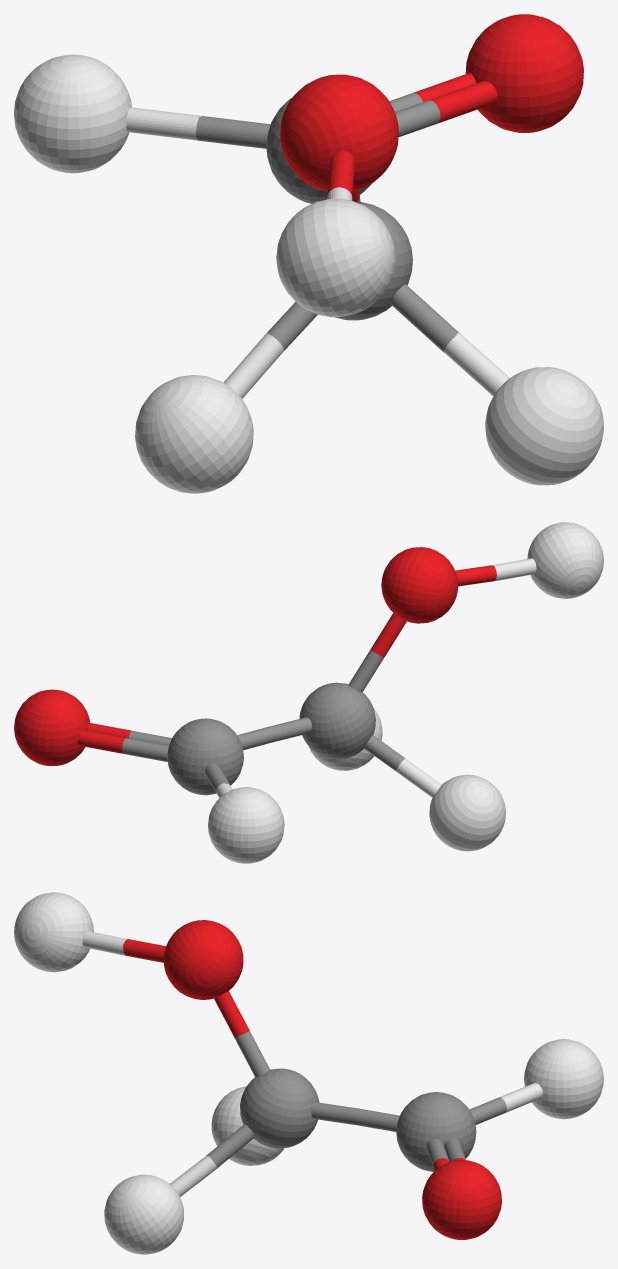
File: glycoaldehyde.fbx
The picture shows the model from 3 angles, top to bottom: view 1: azimuth 30°, elevation 25°; view 2: azimuth 150°, elevation 25°; view 3: azimuth 270°, elevation 25°; orthographic projection. The views are drawn at different scales.
Parts seen in each view (by area): view 1: Sphere.002, Sphere.004, Sphere.013, Sphere.014, Sphere.008, Sphere.000, Sphere.001, Sphere.005, Cylinder.022, Cylinder.025, Cylinder.027, Cylinder.024 (+6 smaller); view 2: Sphere.000, Sphere.014, Sphere.013, Sphere.004, Sphere.008, Sphere.001, Sphere.005, Sphere.002, Cylinder.010, Cylinder.031, Cylinder.016, Cylinder.001 (+6 smaller); view 3: Sphere.002, Sphere.008, Sphere.000, Sphere.004, Sphere.001, Sphere.014, Sphere.005, Sphere.013, Cylinder.022, Cylinder.024, Cylinder.013, Cylinder.000 (+6 smaller).
Part boxes in pixels (x1,y1,x2,y2): Sphere.002: (485,367,603,485); Sphere.004: (276,198,395,317); Sphere.013: (135,375,253,493); Sphere.014: (14,54,131,173); Sphere.008: (465,14,583,132); Sphere.000: (280,74,398,191); Sphere.001: (334,202,412,320); Sphere.005: (266,97,371,203); Cylinder.022: (391,284,458,352); Cylinder.025: (196,116,270,148); Cylinder.027: (126,107,201,140); Cylinder.024: (443,332,509,396); Sphere.000: (381,547,458,623); Sphere.014: (208,787,284,863); Sphere.013: (429,774,505,851); Sphere.004: (527,522,603,598); Sphere.008: (14,689,90,766); Sphere.001: (299,682,375,759); Sphere.005: (167,718,243,795); Sphere.002: (308,709,382,770); Cylinder.010: (122,738,168,761); Cylinder.031: (395,758,441,797); Cylinder.016: (77,730,125,753); Cylinder.001: (371,613,406,657); Sphere.002: (104,1174,183,1254); Sphere.008: (422,1160,501,1239); Sphere.000: (164,920,243,999); Sphere.004: (14,892,93,972); Sphere.001: (240,1068,319,1148); Sphere.014: (524,1039,603,1119); Sphere.005: (396,1092,476,1171); Sphere.013: (211,1086,284,1165); Cylinder.022: (206,1124,254,1167); Cylinder.024: (170,1155,217,1196); Cylinder.013: (352,1108,399,1131); Cylinder.000: (234,1031,270,1077).
Bounding box in the file's own units: 87.61 × 57.35 × 112.
